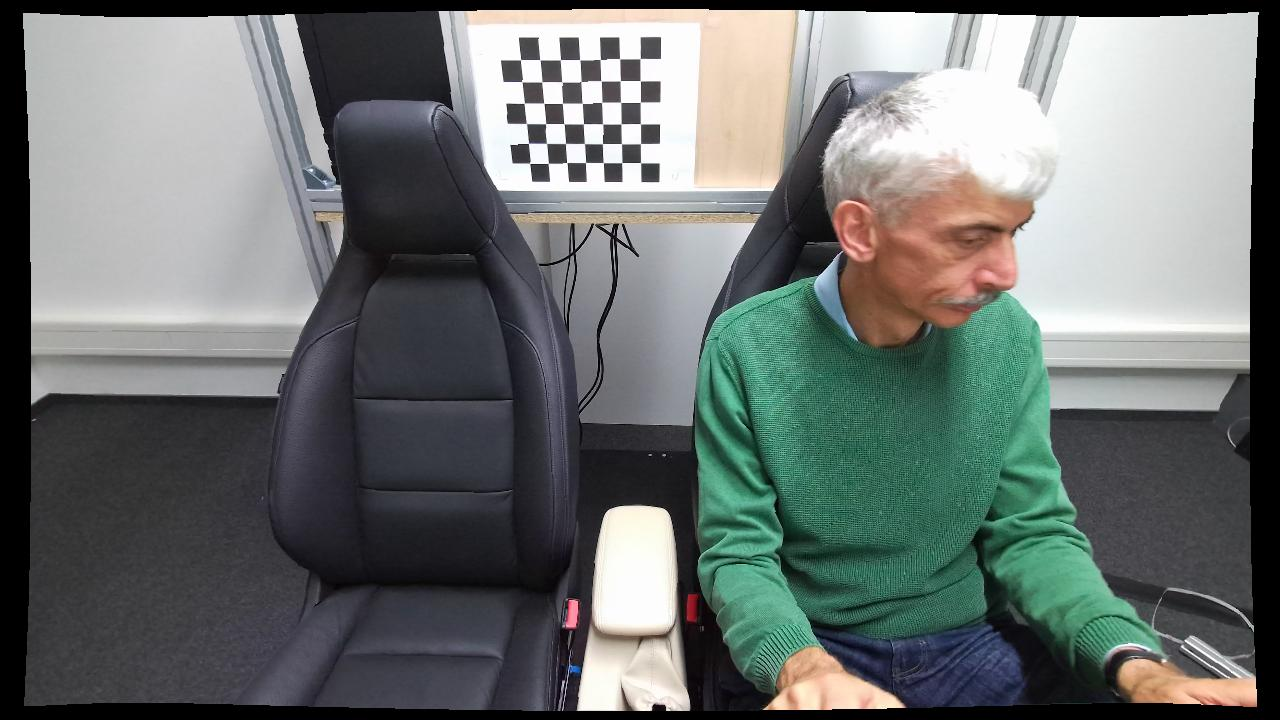Distracted: (694, 67, 1177, 708)
